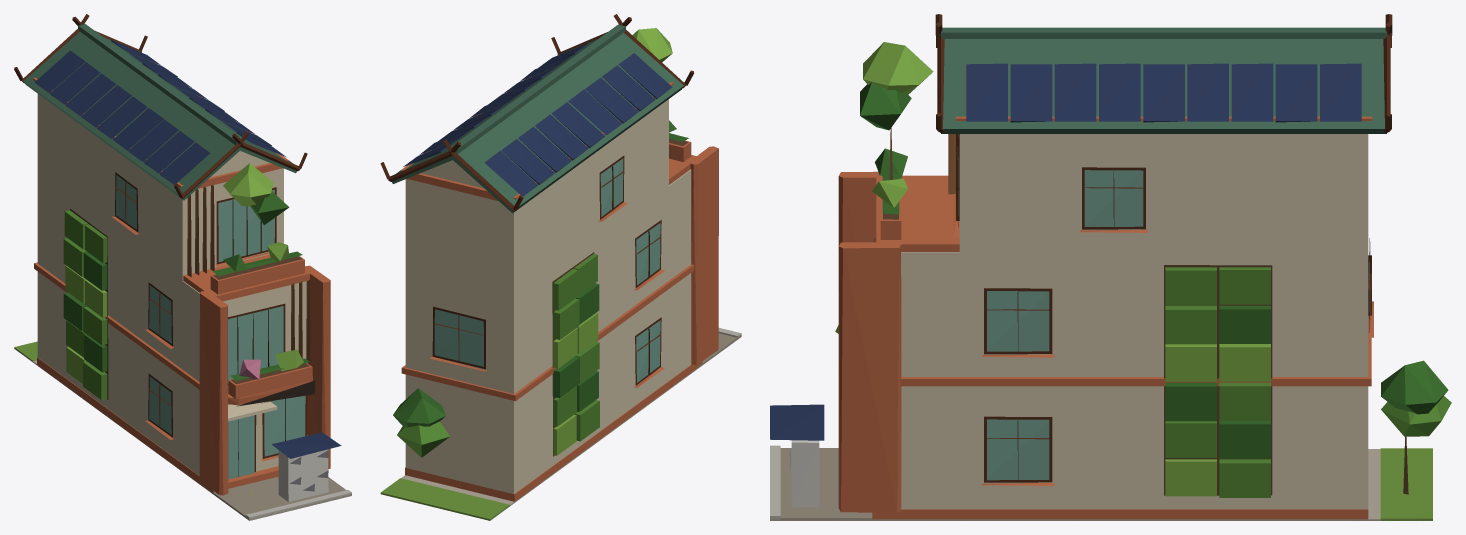
File: bay1_one.glb
The picture shows the model from 3 angles, left to right: view 1: azimuth 30°, elevation 25°; view 2: azimuth 150°, elevation 25°; view 3: azimuth 270°, elevation 25°; orthographic projection. The views are drawn at different scales.
Parts seen in each view (by area): view 1: body; view 2: body; view 3: body.
Part boxes in pixels (left/top/right/bottom): body: left=14, top=14, right=351, bottom=520; body: left=380, top=14, right=741, bottom=520; body: left=770, top=14, right=1451, bottom=520.
Bounding box in the file's own units: 5.23 × 12.39 × 16.36.
